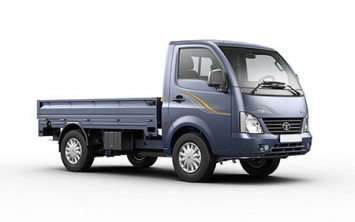pickup: (36, 39, 313, 182)
